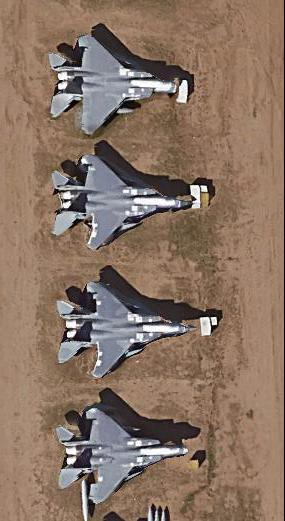F-15: (44, 29, 197, 139), (54, 278, 201, 386), (49, 150, 203, 251), (54, 403, 191, 506)
